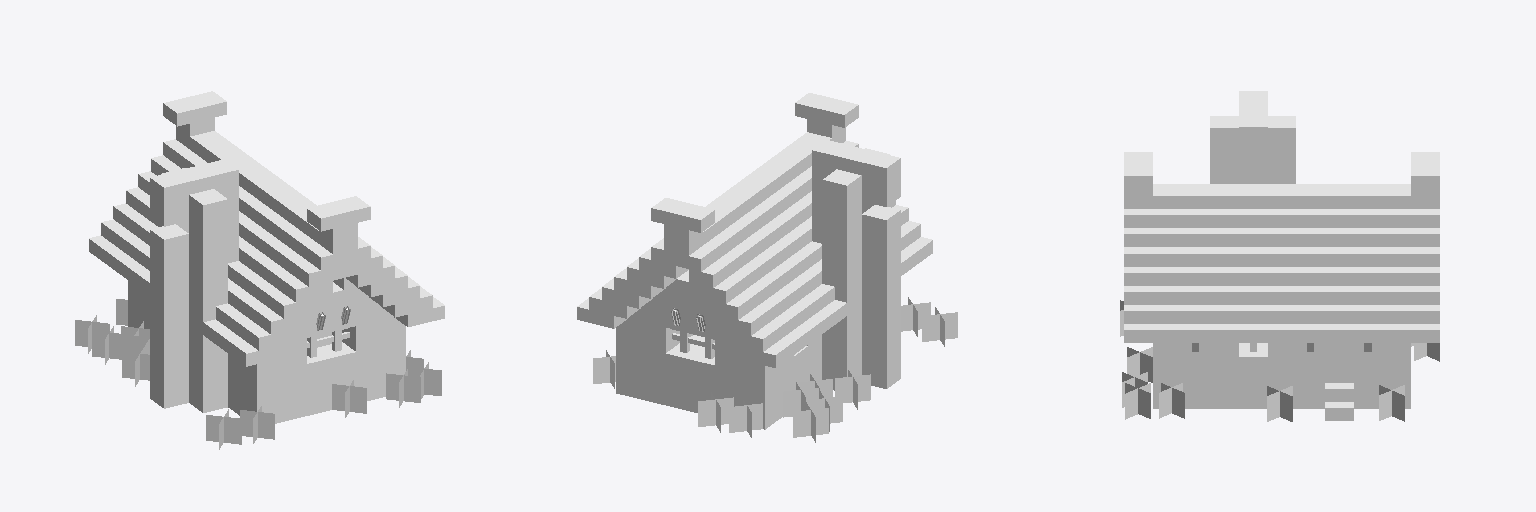
File: WoodenHouse_0.obj
3 views of the same model, side by side, from view 1: azimuth 30°, elevation 25°; view 2: azimuth 150°, elevation 25°; view 3: azimuth 270°, elevation 25° (orthographic).
Visible parts, largest first — view 1: __-201_23_692_to_-192_32_702; view 2: __-201_23_692_to_-192_32_702; view 3: __-201_23_692_to_-192_32_702.
Part boxes in pixels (bbox=[...]): __-201_23_692_to_-192_32_702: bbox=[75, 91, 444, 449]; __-201_23_692_to_-192_32_702: bbox=[577, 93, 957, 442]; __-201_23_692_to_-192_32_702: bbox=[1120, 91, 1439, 421].
Size of the model in its own units: 9.23 by 8.5 by 11.14.